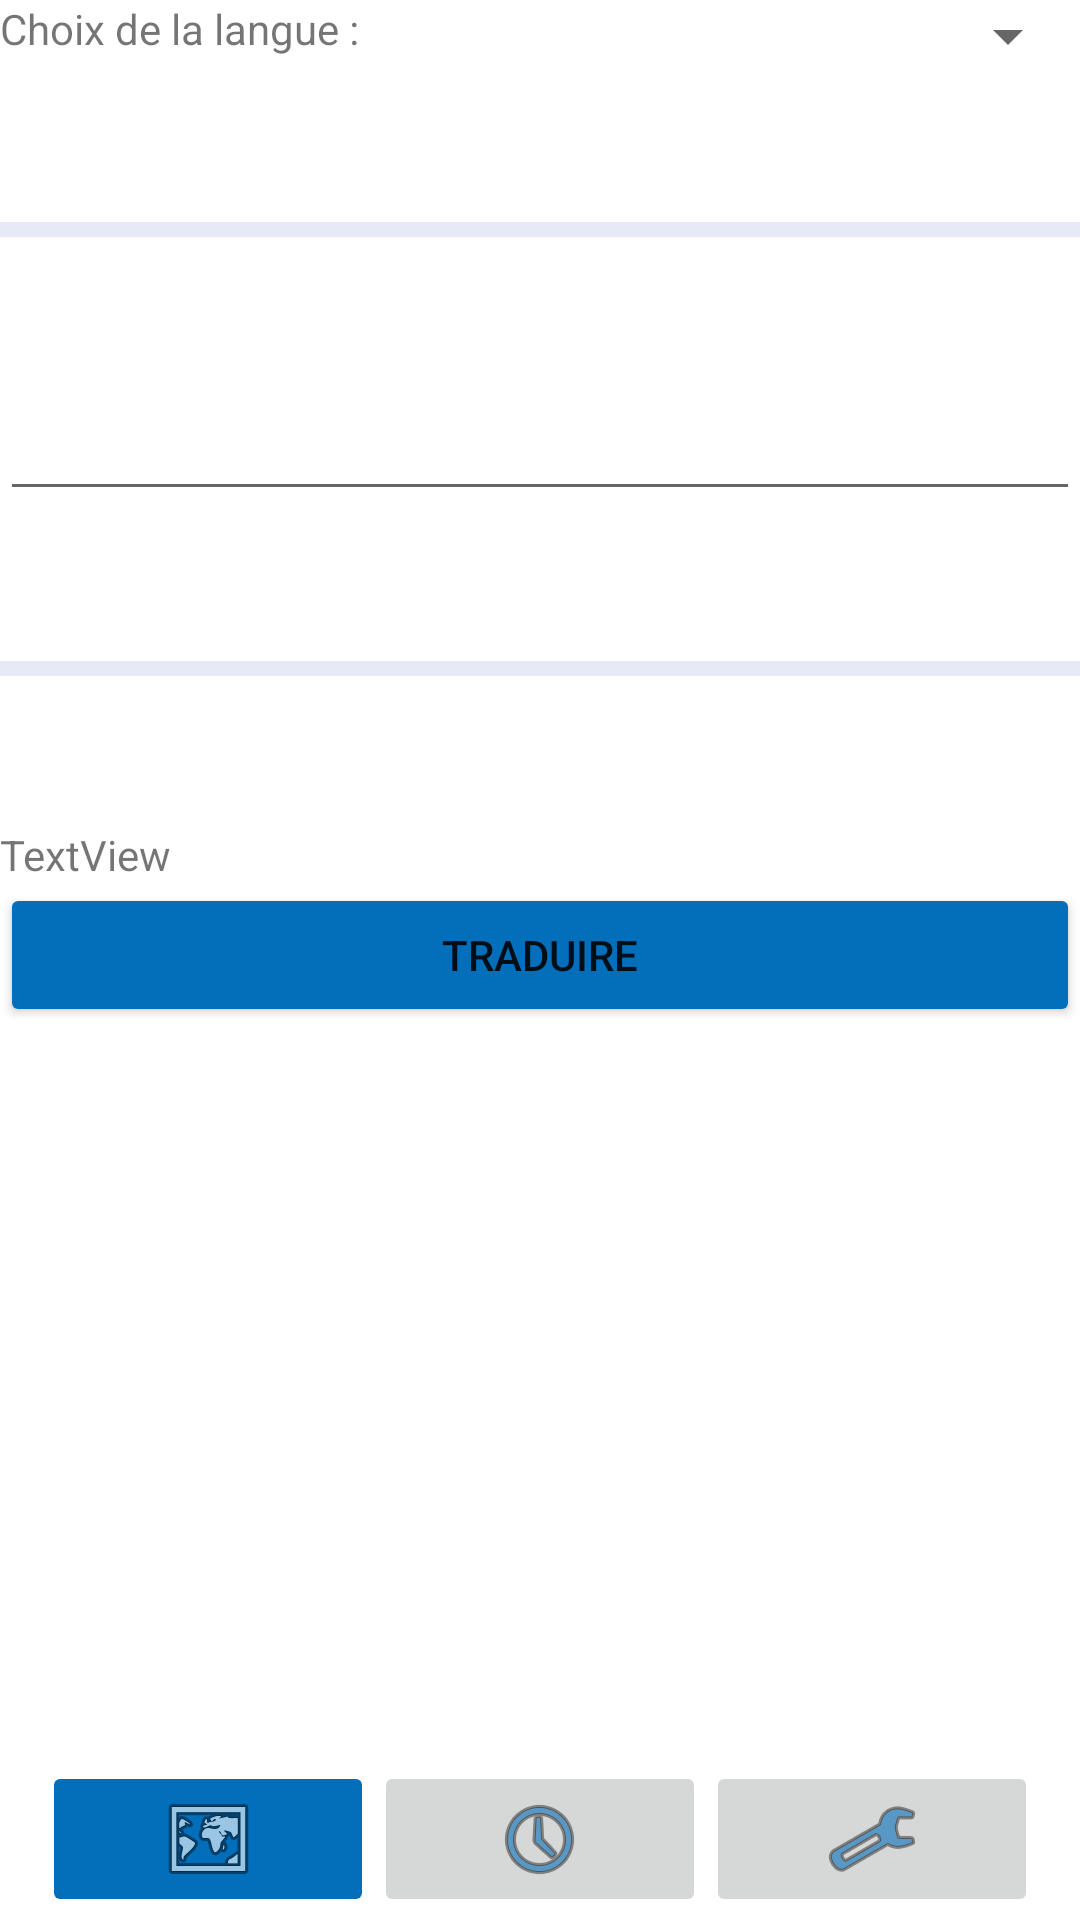

Where to tap for icons on this 1080*1920 app screen, as point (x, y):
manage: point (872, 1839)
mapmode: point (208, 1839)
recent history: point (540, 1839)
